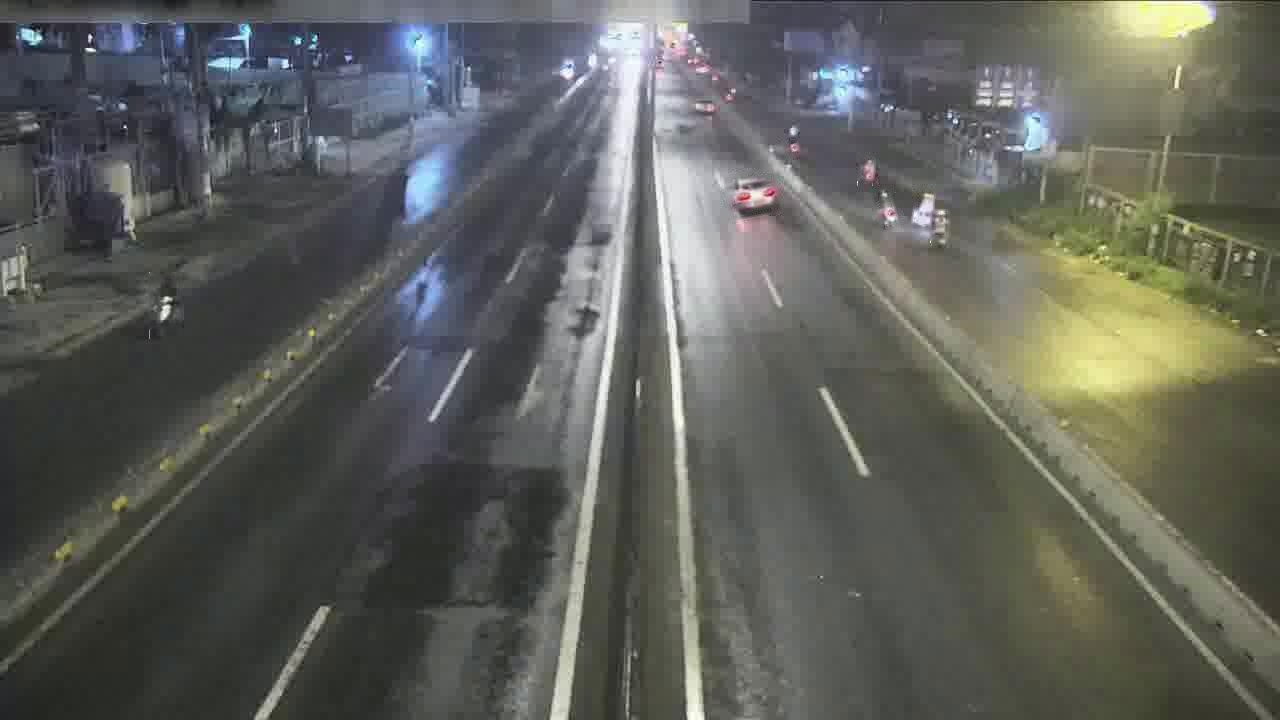Car: (731, 178, 780, 214)
Motorcyclist: (147, 273, 184, 339), (912, 192, 935, 228), (878, 190, 897, 229), (929, 210, 949, 247), (859, 157, 877, 188), (786, 138, 801, 159)
